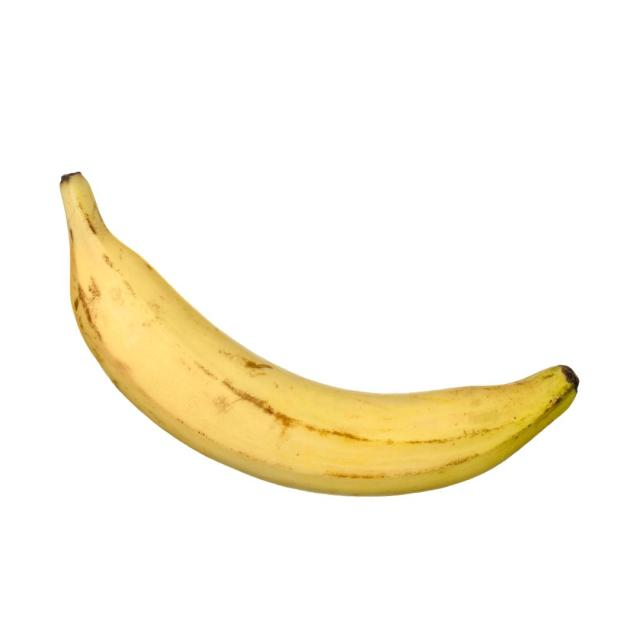Pisang: (59, 169, 580, 498)
